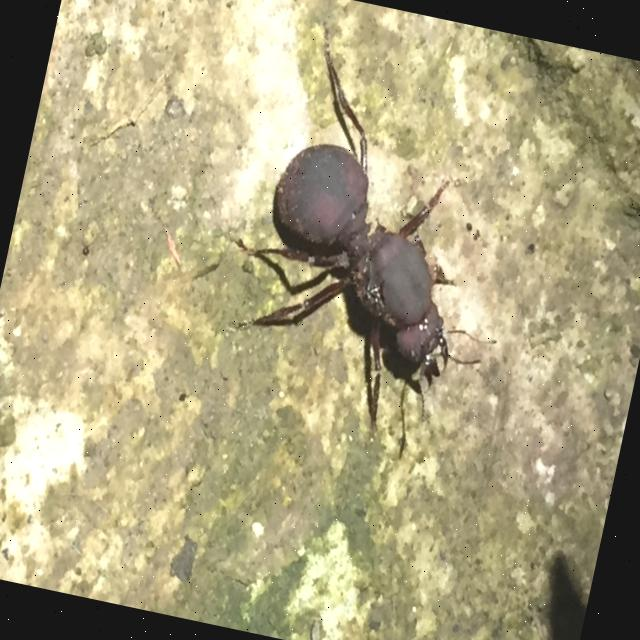Alive-Female-Dealate: (195, 11, 555, 474)
